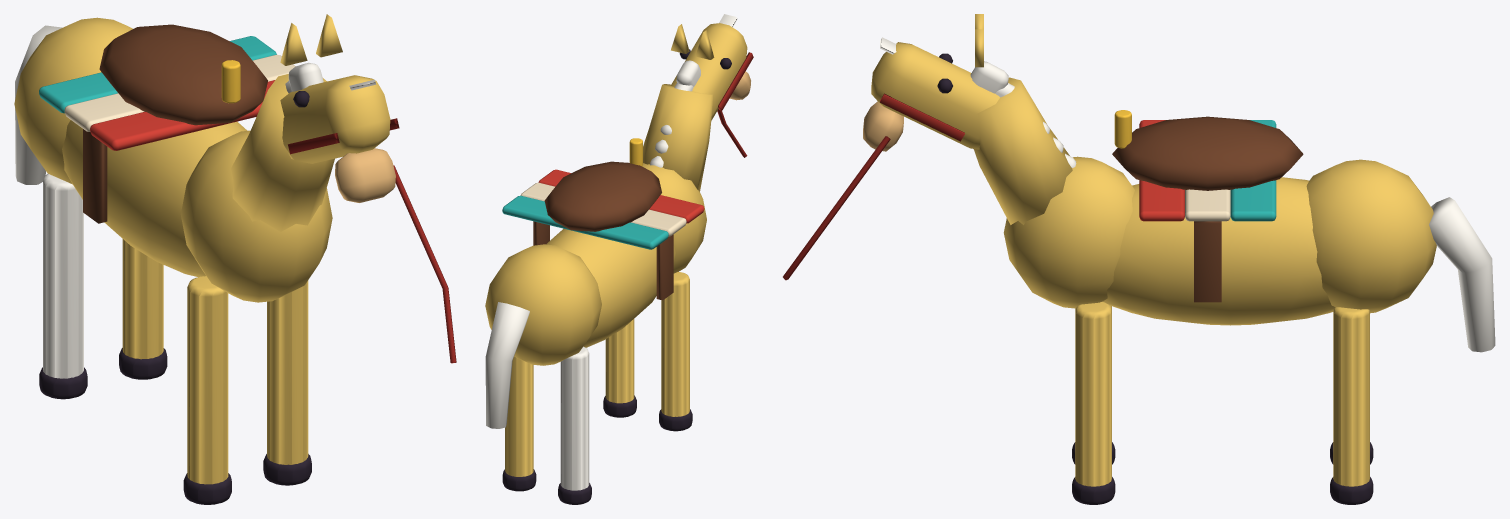
The model's file is gulch_horse_b.glb.
The picture shows the model from 3 angles, left to right: view 1: azimuth 30°, elevation 25°; view 2: azimuth 150°, elevation 25°; view 3: azimuth 270°, elevation 25°; orthographic projection. The views are drawn at different scales.
Parts seen in each view (by area): view 1: Horse; view 2: Horse; view 3: Horse.
Boxes of the visible parts, box(x1,y1,x2,y2) form: Horse: box(14, 14, 456, 504); Horse: box(485, 14, 753, 504); Horse: box(783, 14, 1495, 504).
Size of the model in its own units: 0.98 by 2.22 by 3.12.
